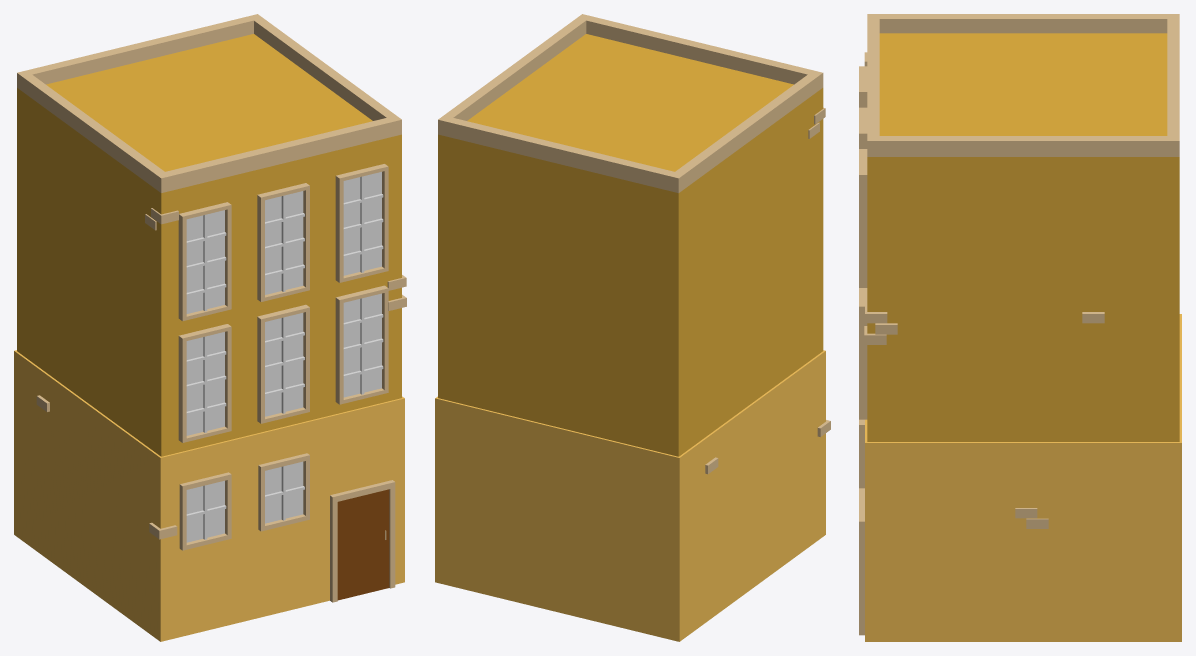
Rendered from niceBuilding.fbx.
3 views of the same model, side by side, from view 1: azimuth 30°, elevation 25°; view 2: azimuth 150°, elevation 25°; view 3: azimuth 270°, elevation 25° (orthographic). The views are drawn at different scales.
Visible parts, largest first — view 1: Cube; view 2: Cube; view 3: Cube.
Part boxes in pixels (x1,y1,x2,y2): Cube: [14, 14, 406, 641]; Cube: [435, 14, 830, 641]; Cube: [859, 14, 1181, 641].
Bounding box in the file's own units: 384 × 681 × 398.
